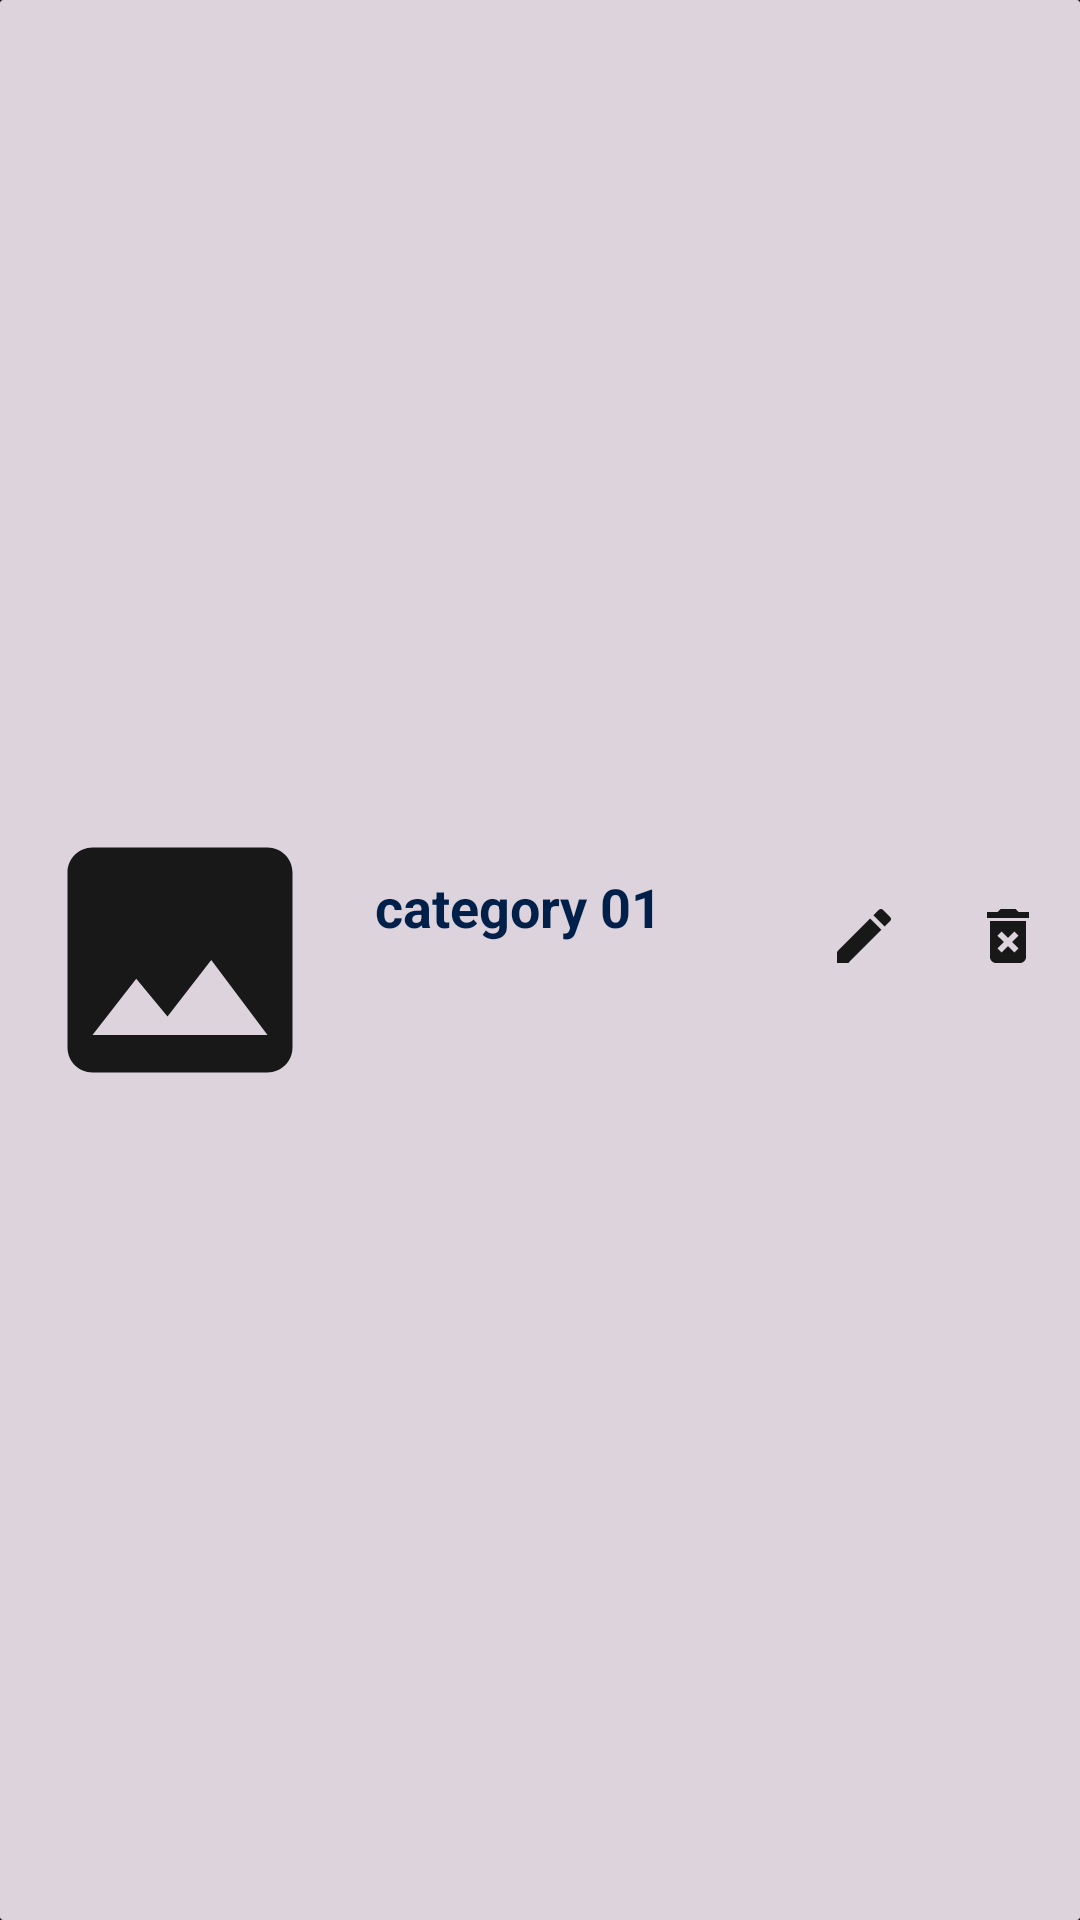

Screen size 1080px×1920px. Icon name, then its box in pixels as (x1, y1, x2, y2):
delete forever: (987, 909, 1029, 963)
mode edit: (837, 909, 891, 963)
